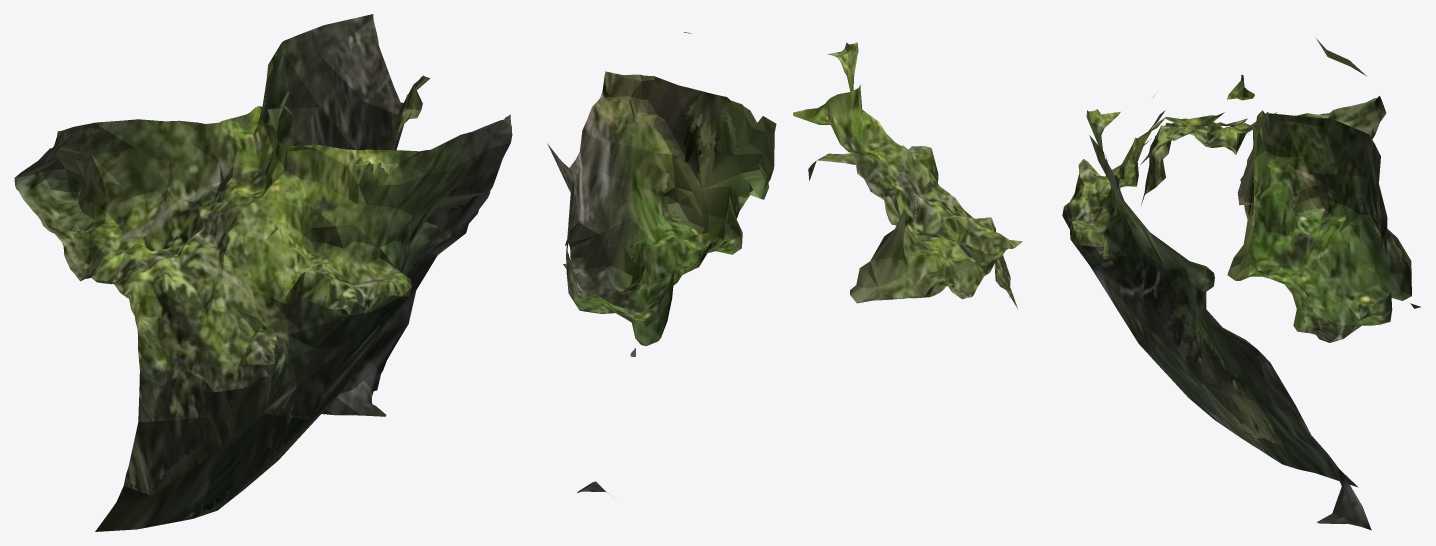
3 views of the same model, side by side, from view 1: azimuth 30°, elevation 25°; view 2: azimuth 150°, elevation 25°; view 3: azimuth 270°, elevation 25° (orthographic). The views are drawn at different scales.
Size of the model in its own units: 2.95 by 2.95 by 2.72.
5 materials, 5 textured.
